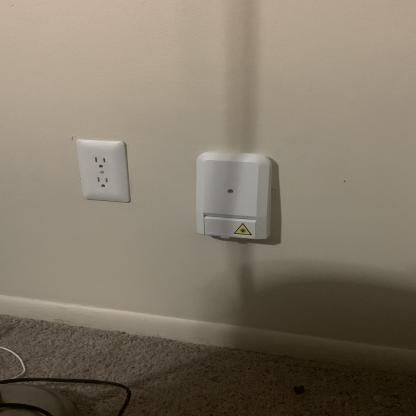OUTLET: (74, 139, 130, 203)
